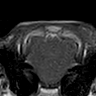Brain: (27, 36, 76, 85)
